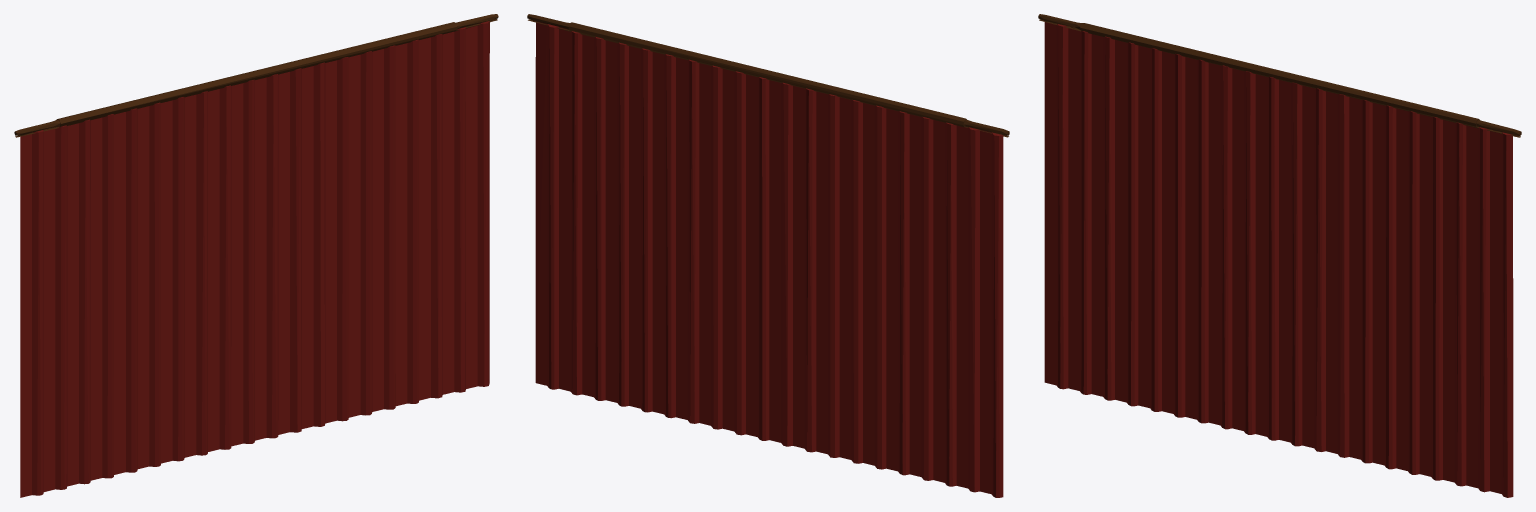
File: curtain.fbx
3 views of the same model, side by side, from view 1: azimuth 30°, elevation 25°; view 2: azimuth 150°, elevation 25°; view 3: azimuth 330°, elevation 25° (orthographic).
Parts seen in each view (by area): view 1: curtain; view 2: curtain; view 3: curtain.
Part boxes in pixels (<box>): curtain: <box>14,14,498,497</box>; curtain: <box>527,14,1009,497</box>; curtain: <box>1038,14,1521,497</box>.
Bounding box in the file's own units: 40395 × 29640 × 772.
